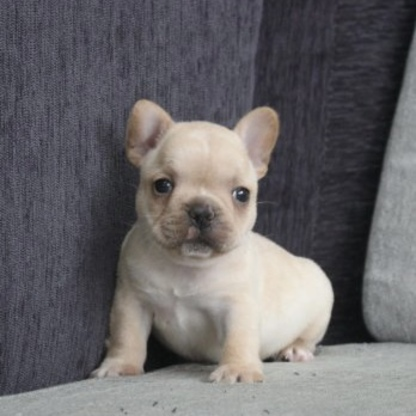bulldog: (84, 94, 337, 389)
